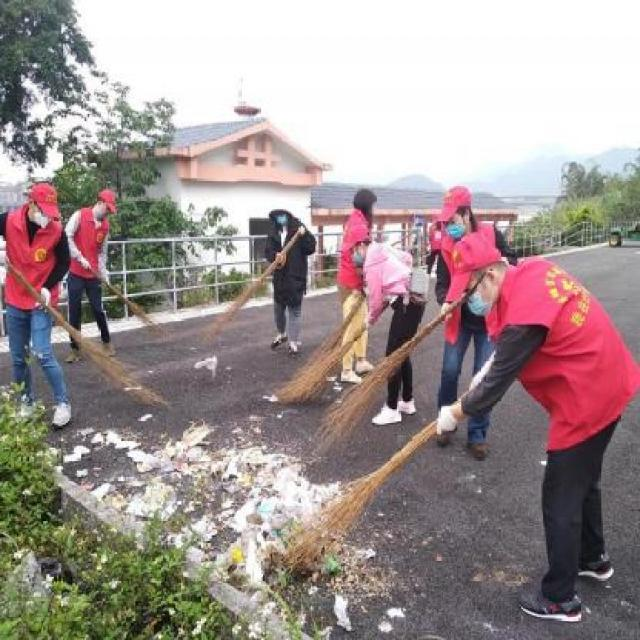garbage: (76, 428, 367, 639), (193, 354, 222, 378)
